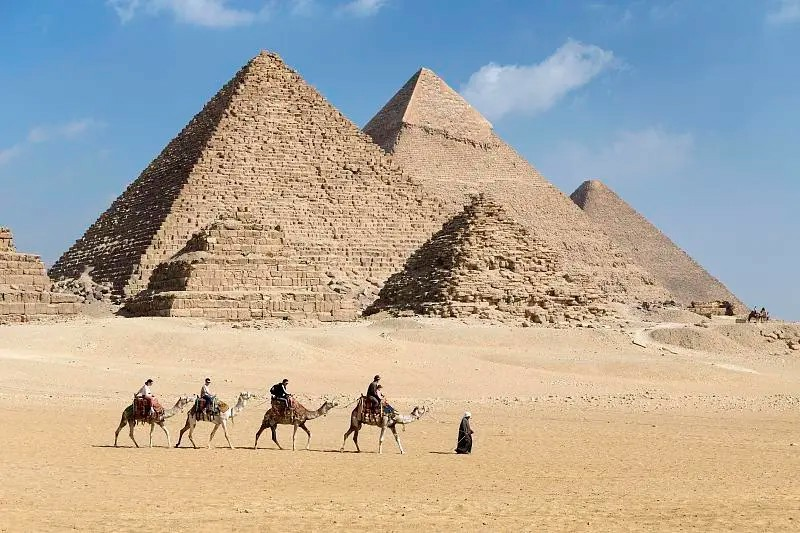Pyramid: (45, 51, 458, 299), (362, 69, 680, 314), (371, 193, 625, 321), (127, 210, 357, 325), (568, 178, 755, 319)
